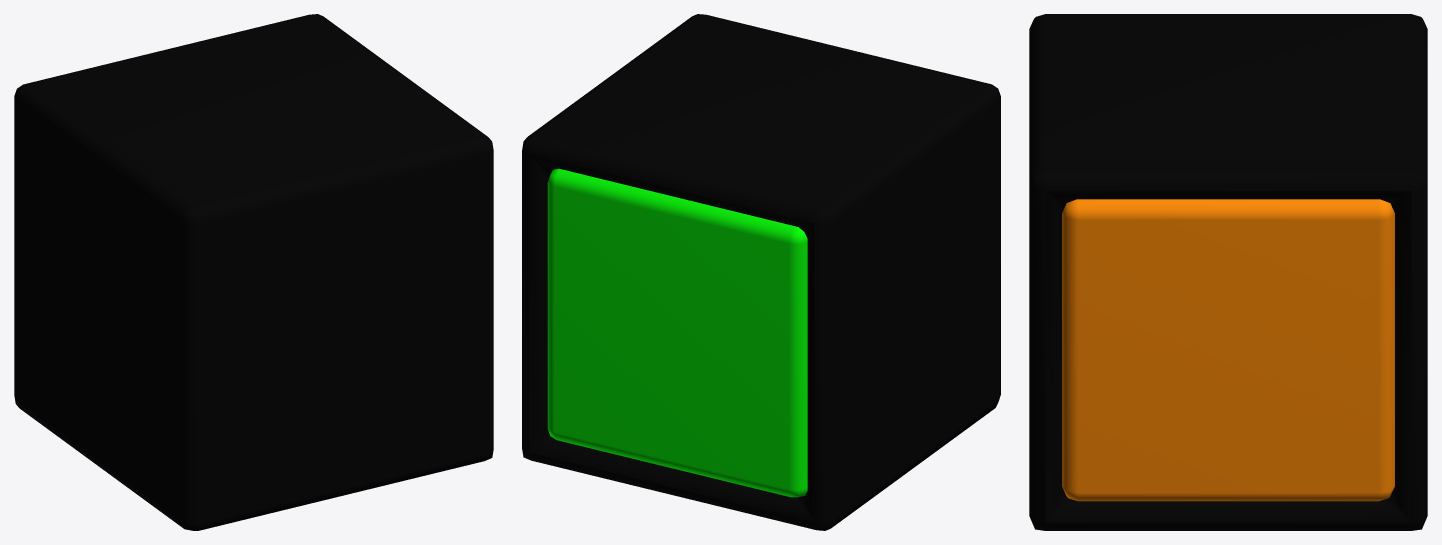
3 views of the same model, side by side, from view 1: azimuth 30°, elevation 25°; view 2: azimuth 150°, elevation 25°; view 3: azimuth 270°, elevation 25° (orthographic). The views are drawn at different scales.
Visible parts, largest first — view 1: Cube.018; view 2: Cube.018; view 3: Cube.018.
Part boxes in pixels (left/top/right/bottom): Cube.018: left=14, top=14, right=493, bottom=530; Cube.018: left=522, top=14, right=1000, bottom=530; Cube.018: left=1029, top=14, right=1427, bottom=530.
Size of the model in its own units: 2 by 2 by 2.
